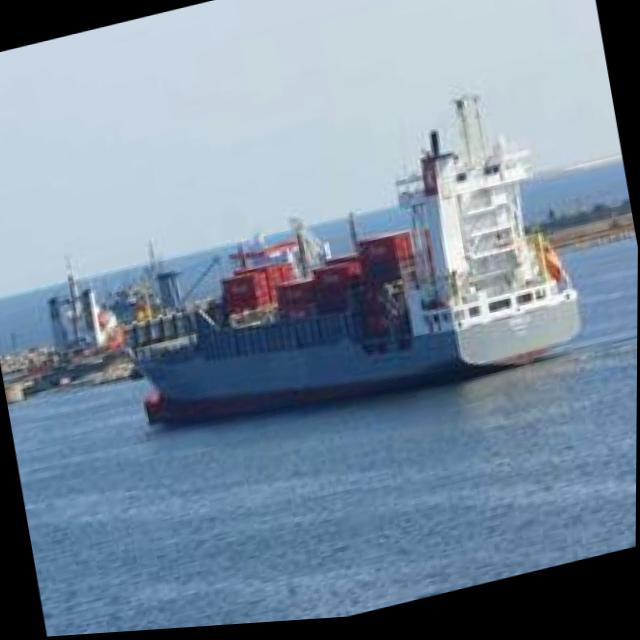ship2: (120, 104, 585, 429)
